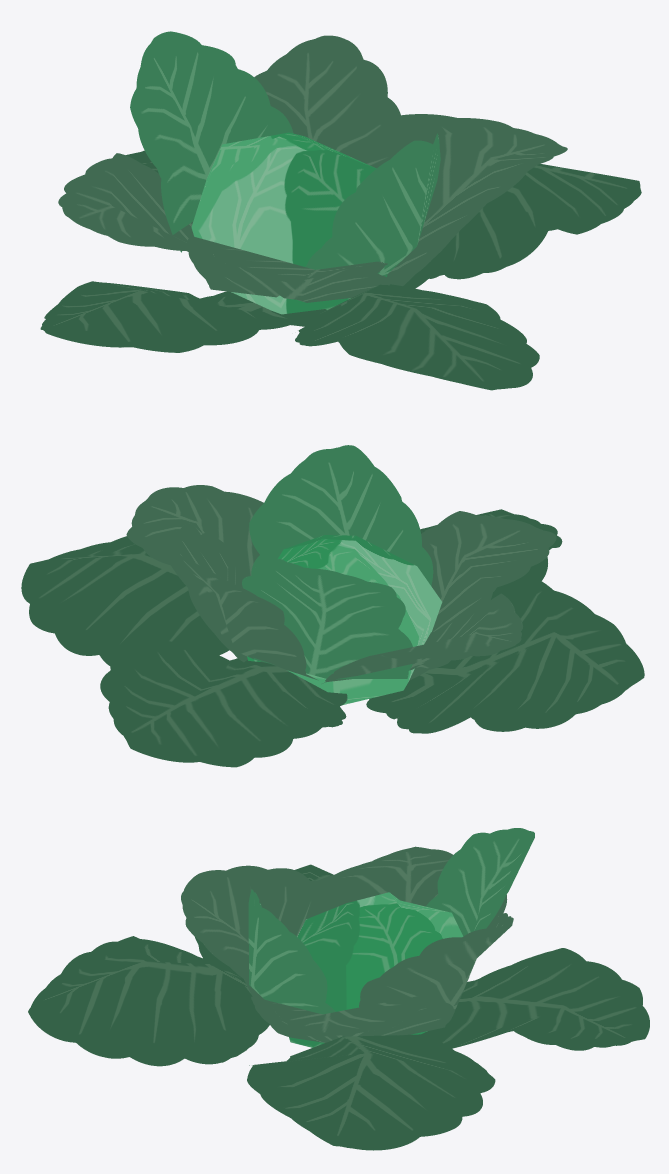
Rendered from PT_Cabbage_01.fbx.
3 views of the same model, one above another, from view 1: azimuth 30°, elevation 25°; view 2: azimuth 150°, elevation 25°; view 3: azimuth 270°, elevation 25° (orthographic). The views are drawn at different scales.
Parts seen in each view (by area): view 1: PT_Cabbage_01_LOD0; view 2: PT_Cabbage_01_LOD0; view 3: PT_Cabbage_01_LOD0.
Part boxes in pixels (x1,y1,x2,y2): PT_Cabbage_01_LOD0: (40, 31, 641, 390); PT_Cabbage_01_LOD0: (21, 445, 644, 767); PT_Cabbage_01_LOD0: (28, 828, 649, 1150).
Size of what is drawn, in the model's own units: 109 by 38.77 by 105.
